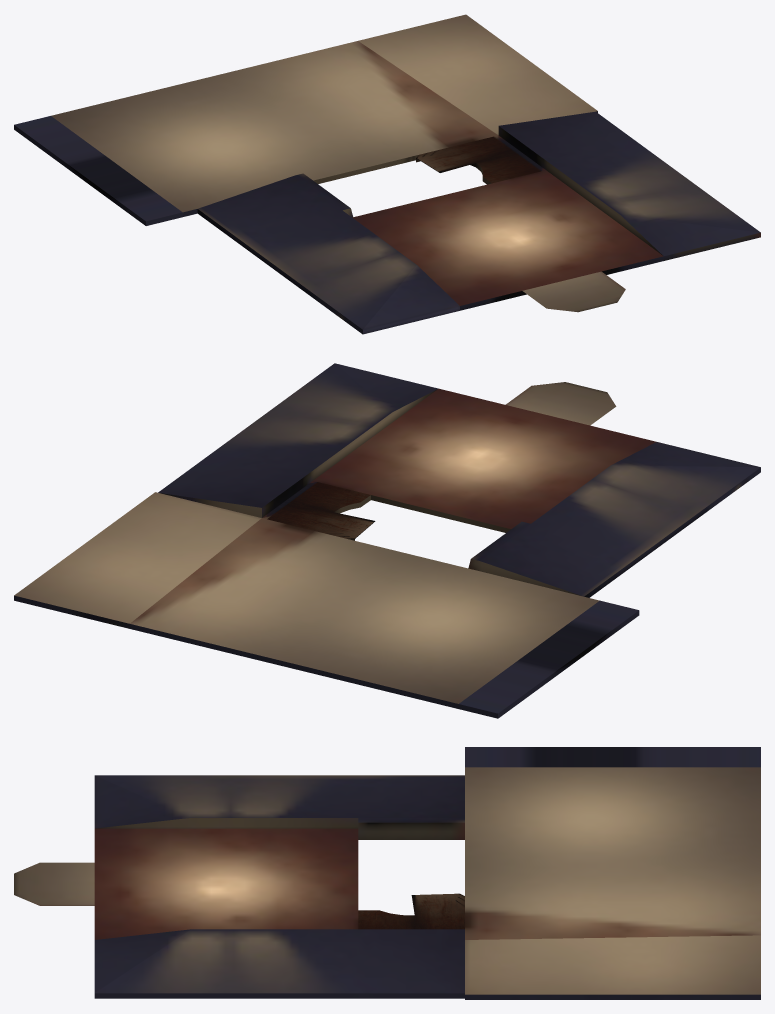
File: upstairsfloor.obj
3 renders of one model, top to bottom at view 1: azimuth 30°, elevation 25°; view 2: azimuth 150°, elevation 25°; view 3: azimuth 270°, elevation 25°, orthographic. The views are drawn at different scales.
Parts seen in each view (by area): view 1: upstairsfloor1 ExportGeo; view 2: upstairsfloor1 ExportGeo; view 3: upstairsfloor1 ExportGeo.
Part boxes in pixels (x1,y1,x2,y2): upstairsfloor1 ExportGeo: [14, 14, 760, 334]; upstairsfloor1 ExportGeo: [14, 363, 760, 718]; upstairsfloor1 ExportGeo: [14, 747, 760, 999].
Bounding box in the file's own units: 15.37 × 0.4652 × 19.61.
Materials: 1 (1 with a texture image).
